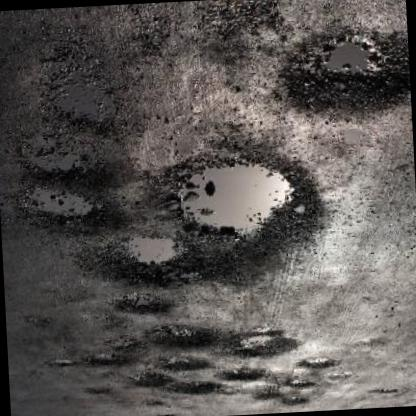pothole: (160, 146, 330, 282), (280, 25, 411, 120), (31, 30, 127, 140), (15, 130, 122, 191), (74, 234, 186, 291), (19, 180, 126, 238), (146, 318, 221, 354), (229, 328, 302, 361), (86, 335, 146, 375), (112, 291, 178, 318), (218, 364, 268, 386), (129, 368, 174, 391), (172, 378, 222, 398), (298, 355, 334, 372), (255, 390, 281, 402), (292, 380, 318, 390), (285, 397, 309, 407)
